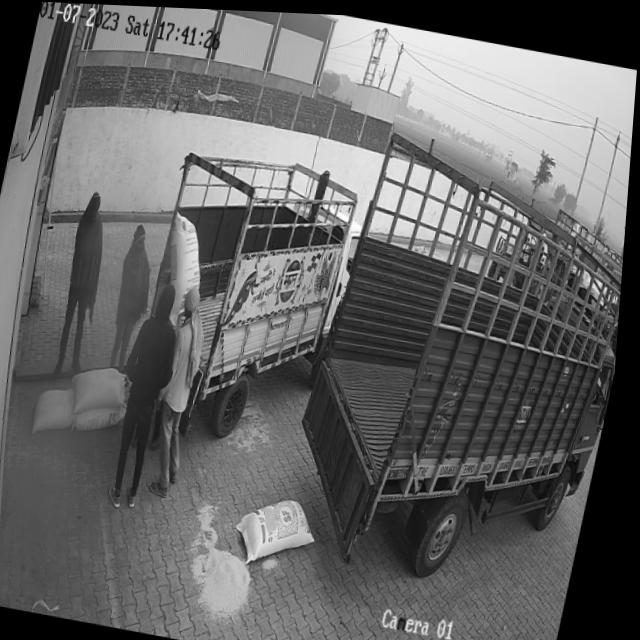sack: (237, 489, 330, 573), (157, 209, 218, 325), (71, 360, 137, 419), (36, 382, 86, 439), (79, 398, 132, 436)
